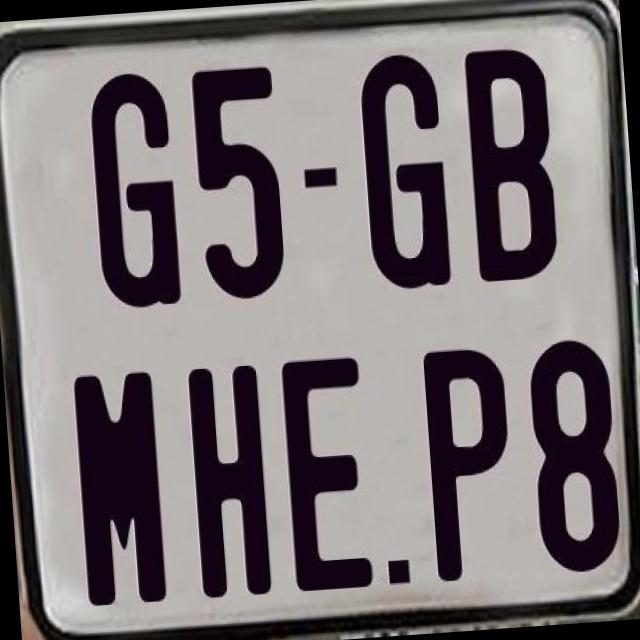5: (188, 64, 288, 301)
8: (525, 337, 624, 580)
B: (464, 43, 564, 283)
E: (278, 353, 372, 591)
G: (84, 70, 186, 318), (355, 51, 457, 290)
H: (185, 360, 272, 596)
M: (70, 368, 165, 610)
P: (418, 341, 520, 580)
